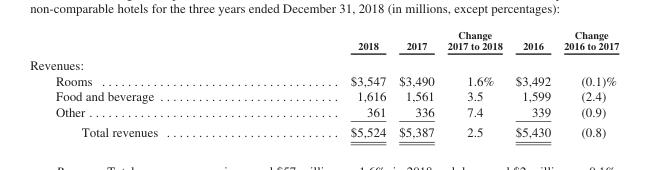table: (29, 28, 618, 139)
table column: (29, 28, 253, 139), (253, 28, 391, 139), (440, 28, 508, 139), (556, 28, 618, 139), (391, 28, 440, 139), (508, 28, 556, 139)
table column header: (29, 28, 618, 54)
table projected row header: (29, 54, 618, 72)
table row: (29, 28, 618, 54), (29, 54, 618, 72), (29, 103, 618, 121), (29, 121, 618, 139), (29, 72, 618, 88), (29, 88, 618, 103)
